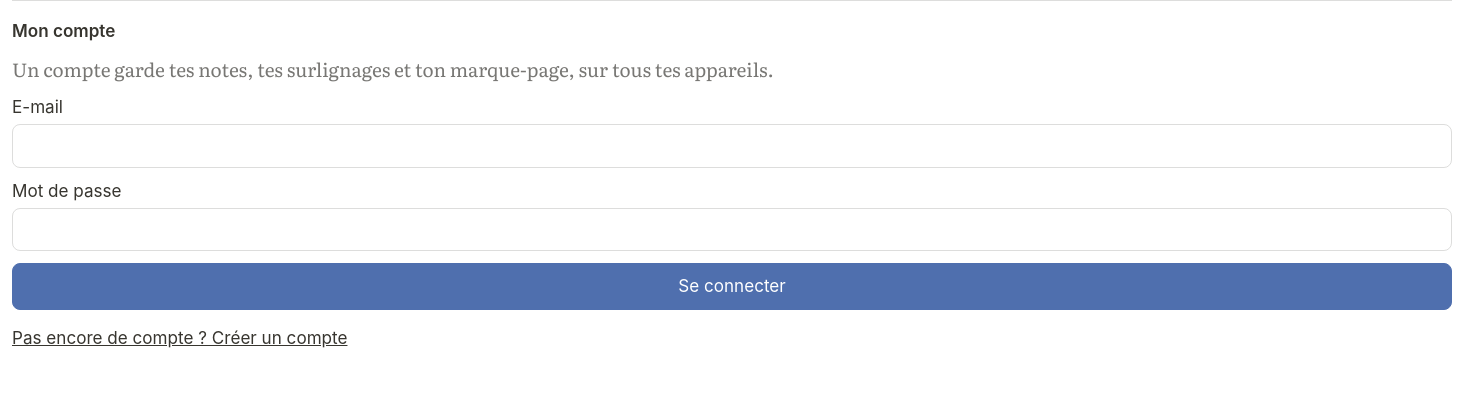
Test: AccountSection › un mauvais code : le message du serveur
The width and height of the screenshot is (1464, 397).
Click the button "Pas encore de compte ? Créer un compte" at (180, 337), box top-left (12, 321), bottom-right (1452, 354)
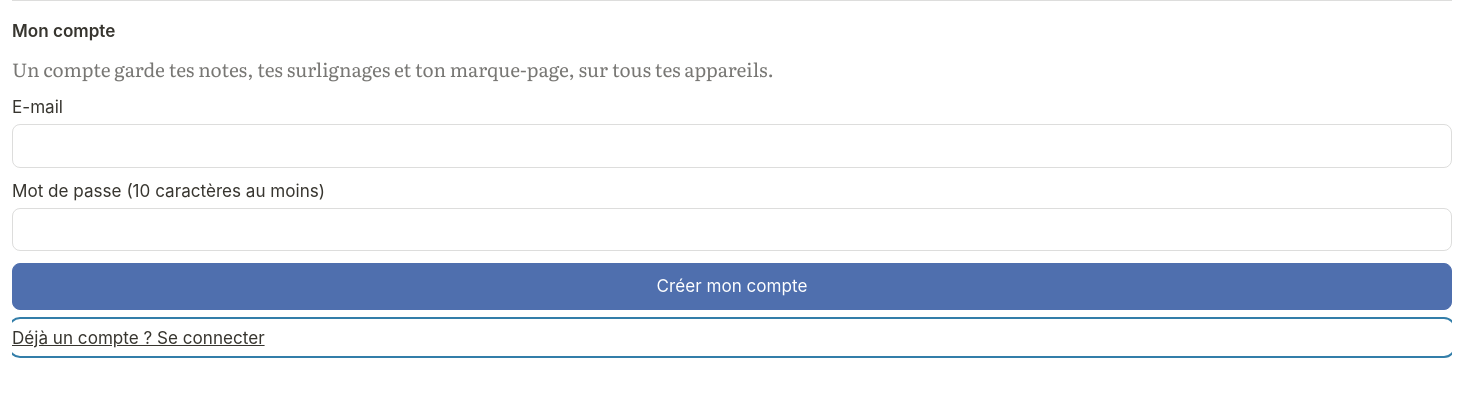
Type "marin@exemple.fr" into the field labelled "E-mail" at (732, 146), box top-left (12, 124), bottom-right (1452, 168)
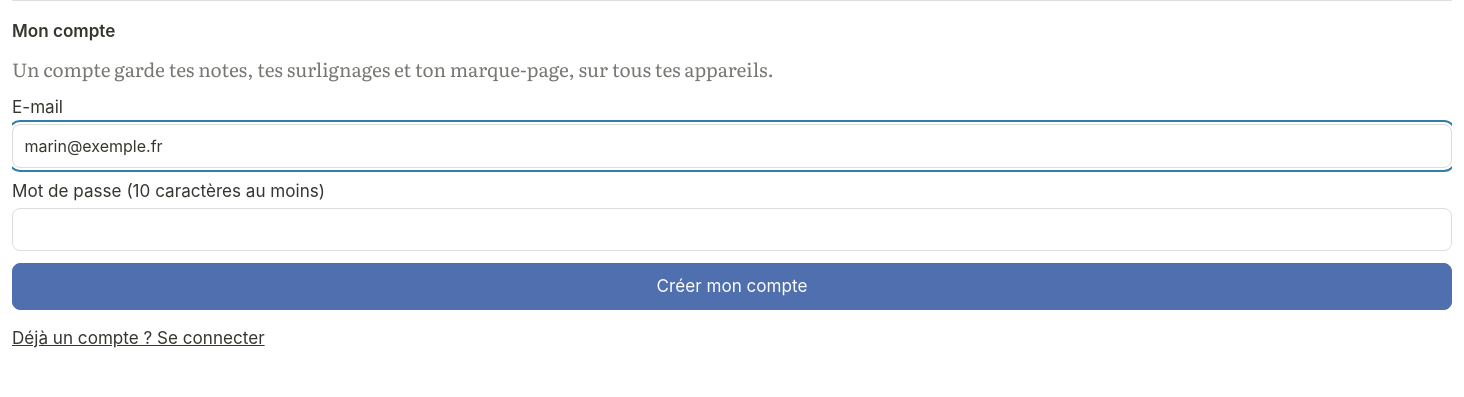
Type "un mot de passe long" into the password field labelled "Mot de passe (10 caractères au moins)" at (732, 230), box top-left (12, 208), bottom-right (1452, 252)
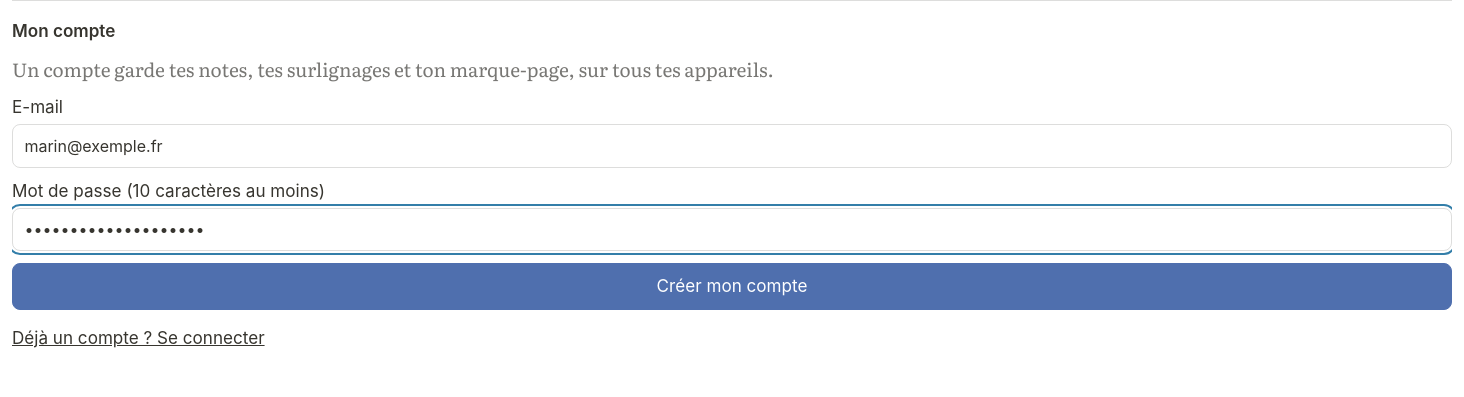
Click the button "Créer mon compte" at (732, 286), box top-left (12, 263), bottom-right (1452, 310)
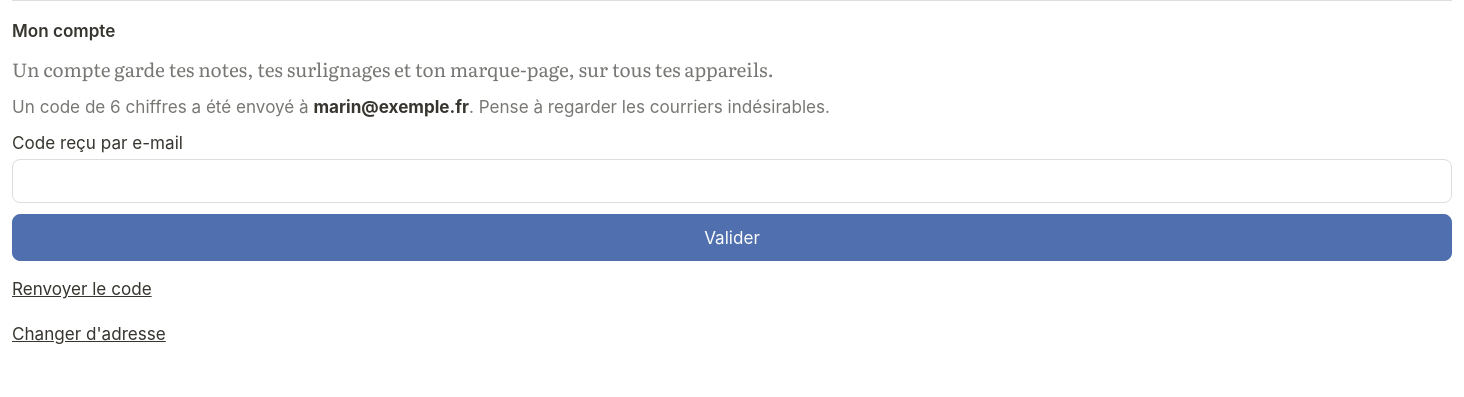
Type "000000" into the field labelled "Code reçu par e-mail" at (732, 181), box top-left (12, 159), bottom-right (1452, 203)
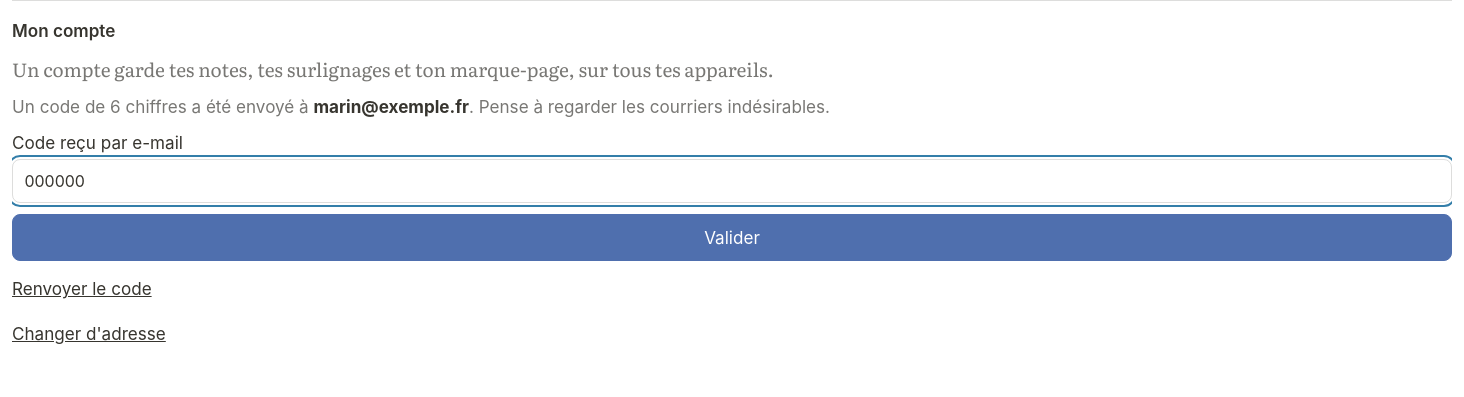
Click the button "Valider" at (732, 238), box top-left (12, 214), bottom-right (1452, 261)
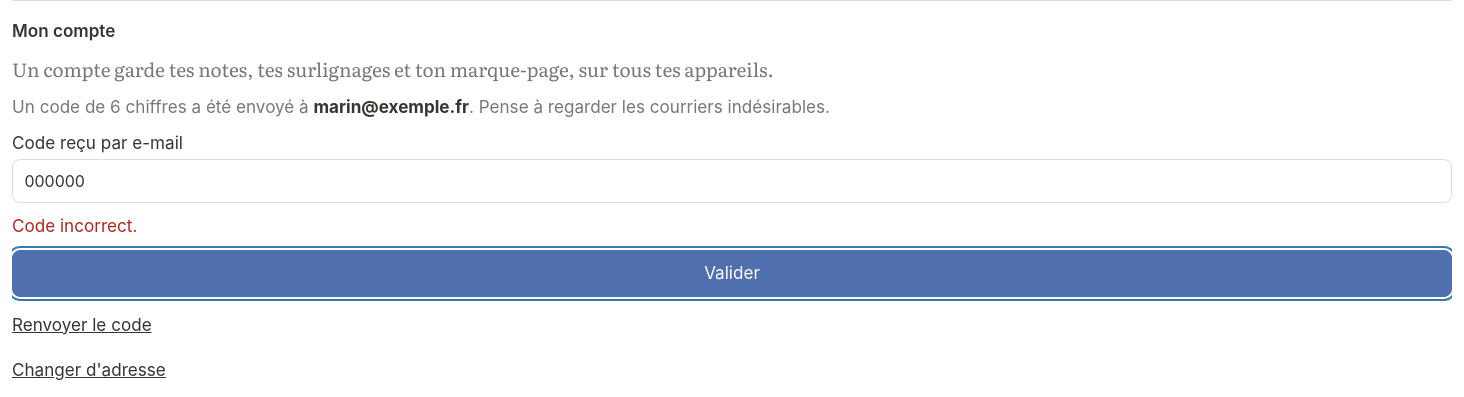
Result: the message reads "Code incorrect." at top-left (12, 215), bottom-right (137, 236)
